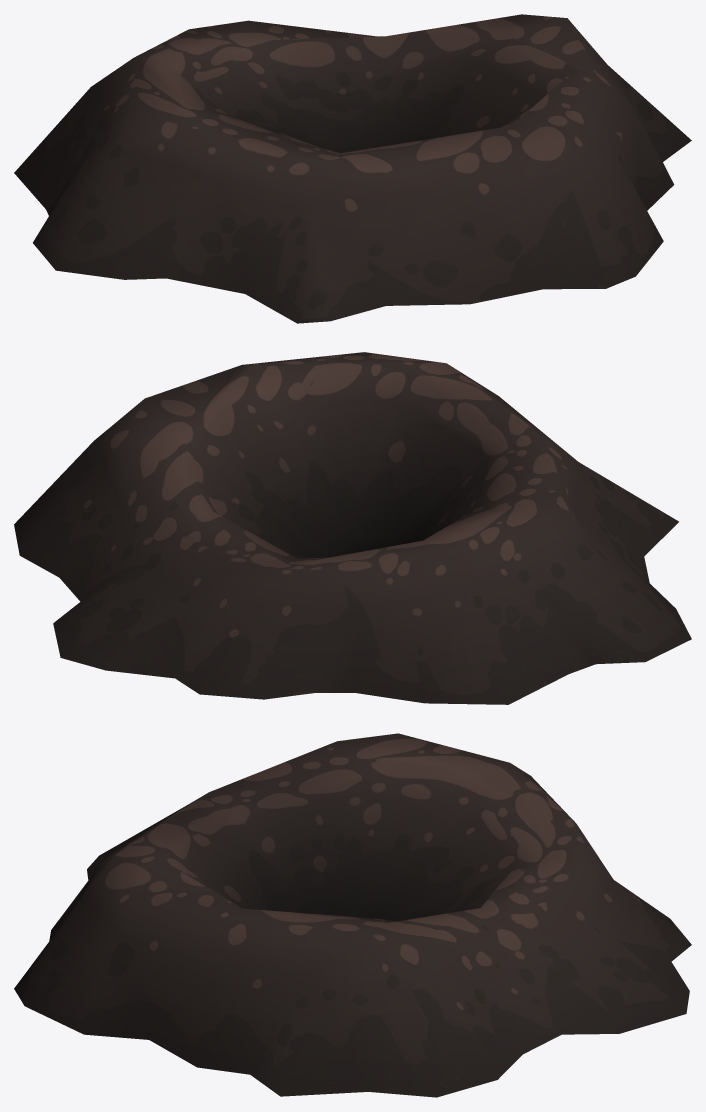
File: DugSoil.glb
3 renders of one model, top to bottom at view 1: azimuth 30°, elevation 25°; view 2: azimuth 150°, elevation 25°; view 3: azimuth 270°, elevation 25°, orthographic. The views are drawn at different scales.
Parts seen in each view (by area): view 1: DugSoil; view 2: DugSoil; view 3: DugSoil.
Boxes of the visible parts, x1=… form: DugSoil: x1=14, y1=14, x2=691, y2=323; DugSoil: x1=14, y1=352, x2=691, y2=704; DugSoil: x1=14, y1=733, x2=691, y2=1097.
Size of the model in its own units: 0.0885 by 0.0163 by 0.0831.
1 material, 1 textured.
